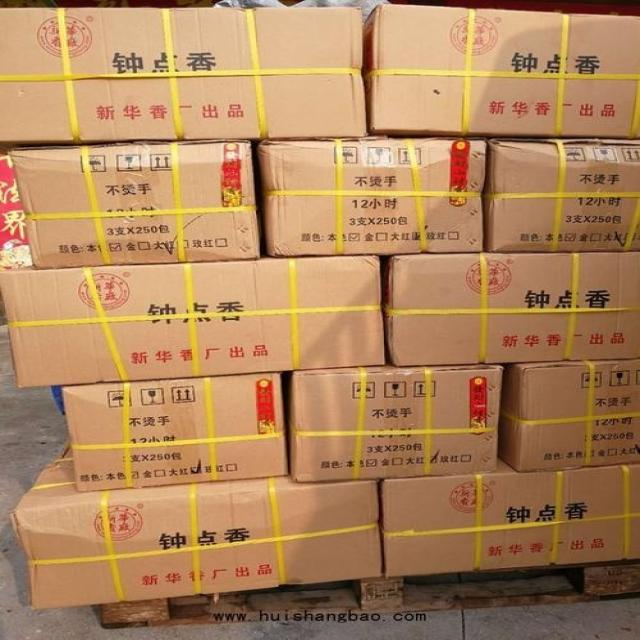box: (9, 438, 383, 607), (0, 7, 370, 145), (0, 255, 385, 387), (365, 7, 639, 135), (8, 141, 262, 268), (379, 454, 639, 578), (388, 253, 639, 368), (60, 373, 289, 494), (260, 138, 489, 258), (289, 363, 503, 482), (488, 138, 639, 253), (498, 357, 639, 470)
